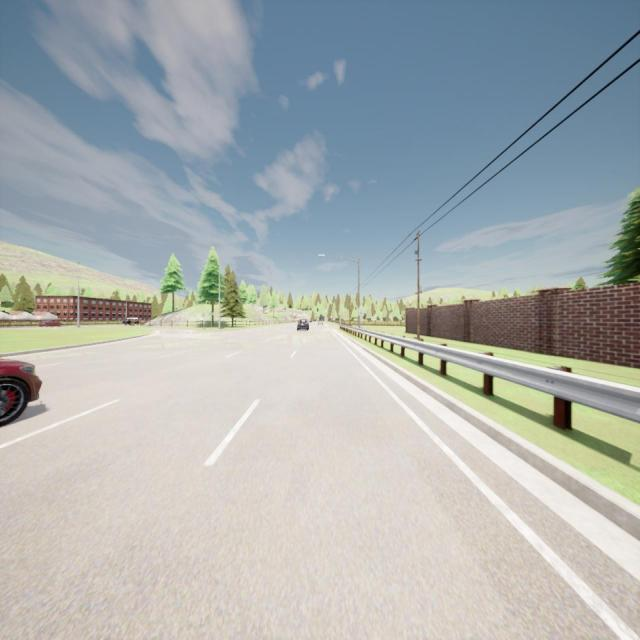Vehicle: (1, 359, 42, 424), (122, 315, 140, 330), (40, 316, 62, 328), (296, 315, 310, 332), (316, 318, 324, 327)
